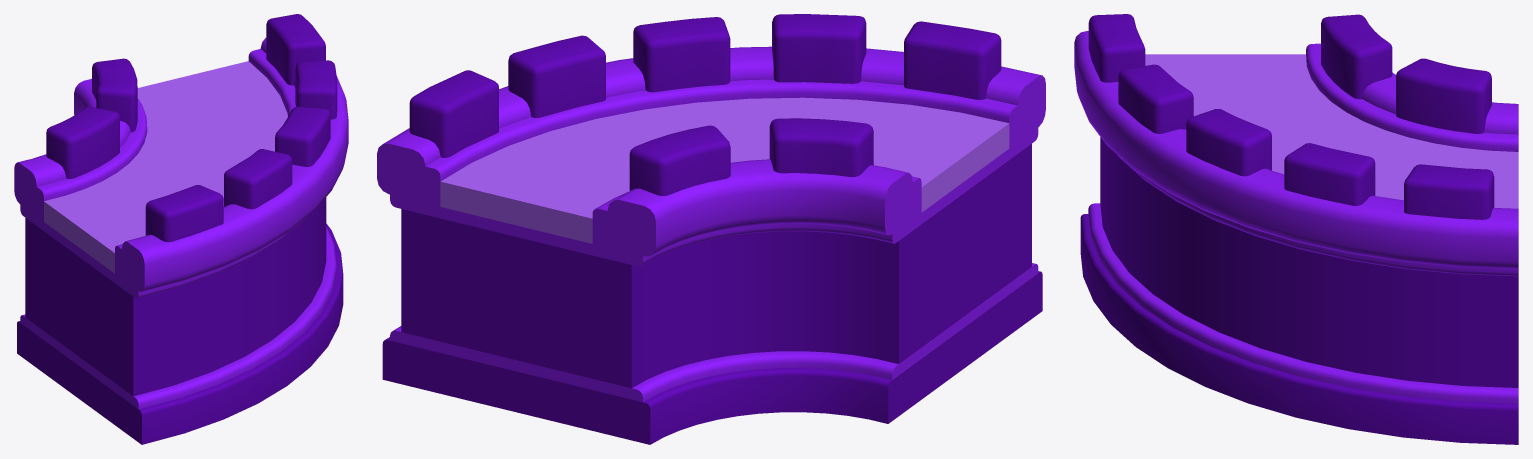
File: Thick wall corner (regular height).fbx
The picture shows the model from 3 angles, left to right: view 1: azimuth 30°, elevation 25°; view 2: azimuth 150°, elevation 25°; view 3: azimuth 270°, elevation 25°; orthographic projection. The views are drawn at different scales.
Visible parts, largest first — view 1: Plane.057; view 2: Plane.057; view 3: Plane.057.
Boxes of the visible parts, x1,y1,x2,y2 form: Plane.057: [14, 14, 348, 444]; Plane.057: [377, 14, 1045, 444]; Plane.057: [1074, 14, 1518, 444].
Size of the model in its own units: 76.22 by 46.26 by 73.2.
Materials: 1 (1 with a texture image).
